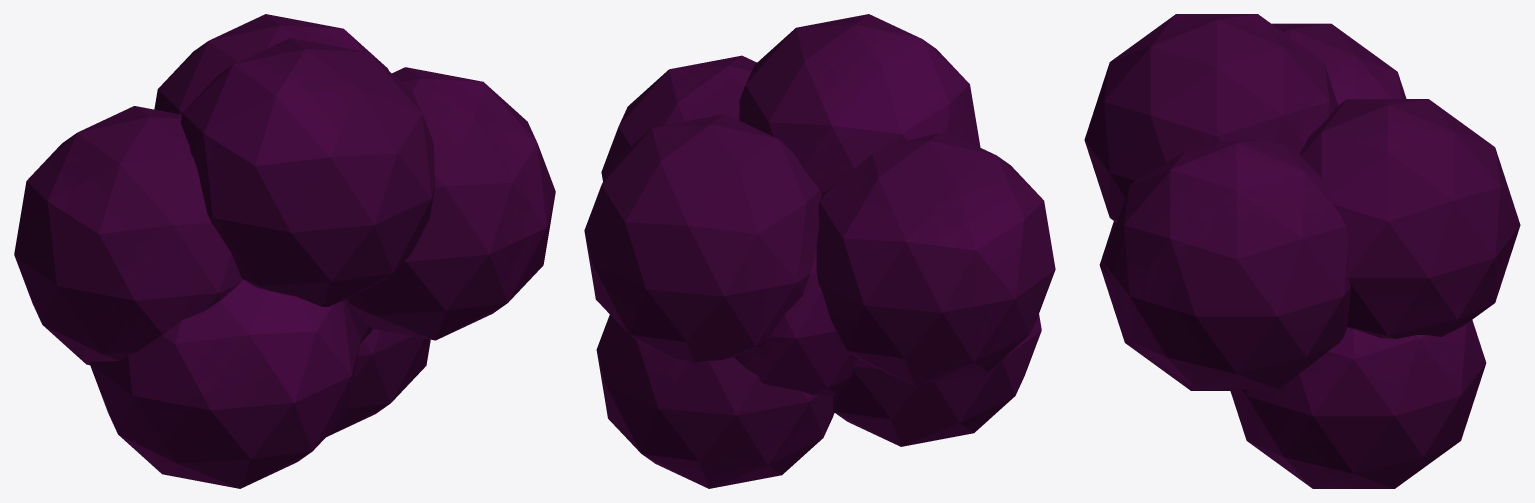
The model's file is Bad Thing.fbx.
3 renders of one model, left to right at view 1: azimuth 30°, elevation 25°; view 2: azimuth 150°, elevation 25°; view 3: azimuth 270°, elevation 25°, orthographic. The views are drawn at different scales.
Parts seen in each view (by area): view 1: Icosphere; view 2: Icosphere; view 3: Icosphere.
Boxes of the visible parts, left/top/right/bottom form: Icosphere: left=14, top=14, right=555, bottom=488; Icosphere: left=584, top=14, right=1055, bottom=488; Icosphere: left=1084, top=14, right=1520, bottom=488.
Size of the model in its own units: 393 by 359 by 329.
1 material, 1 textured.
